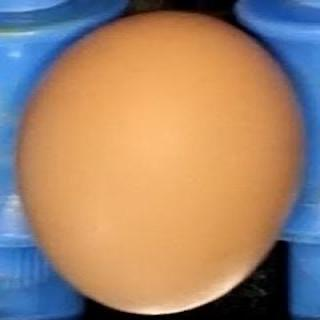Telur: (13, 10, 313, 314)
